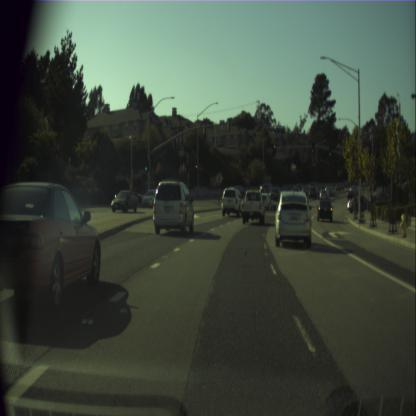Green: (144, 158, 148, 170), (328, 144, 332, 156), (312, 141, 314, 152)
Red: (272, 144, 276, 156), (195, 162, 197, 174)
